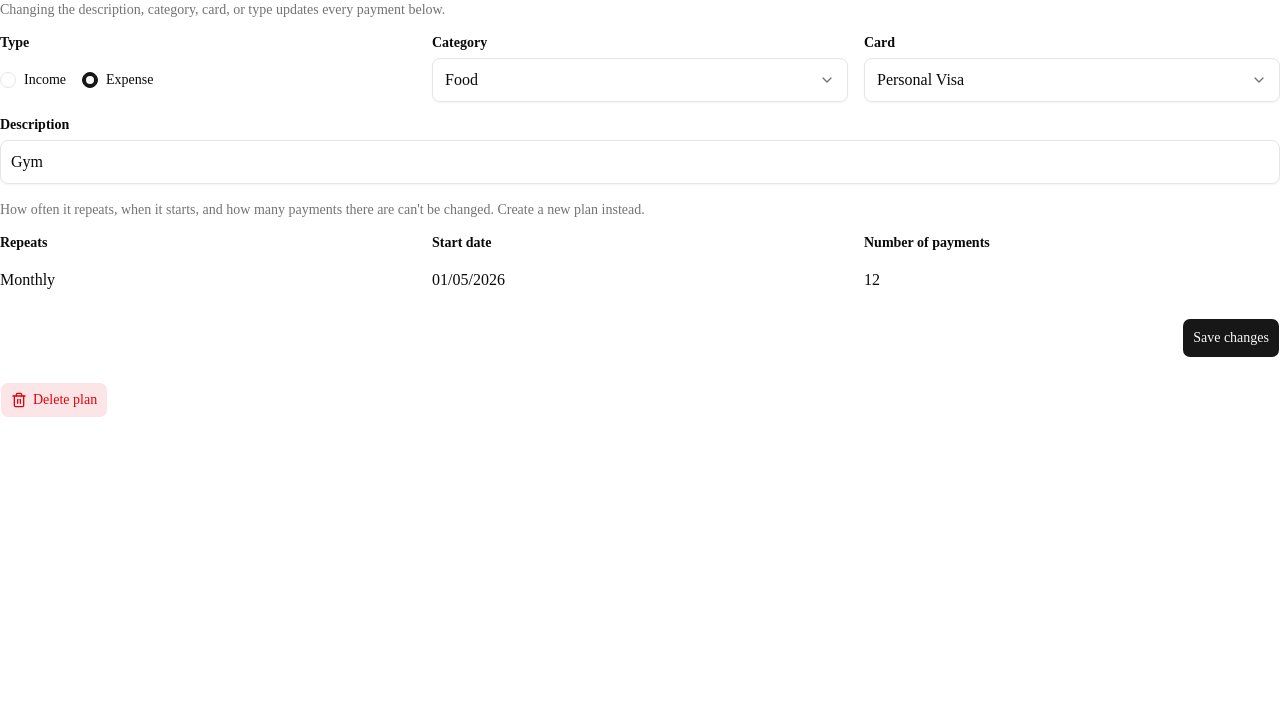
Scenario: InstallmentSeriesForm › opens a confirmation before deleting the plan, interpolating the occurrence count
Click the button "Delete plan": x=54, y=400 top-left (0, 382), bottom-right (108, 418)
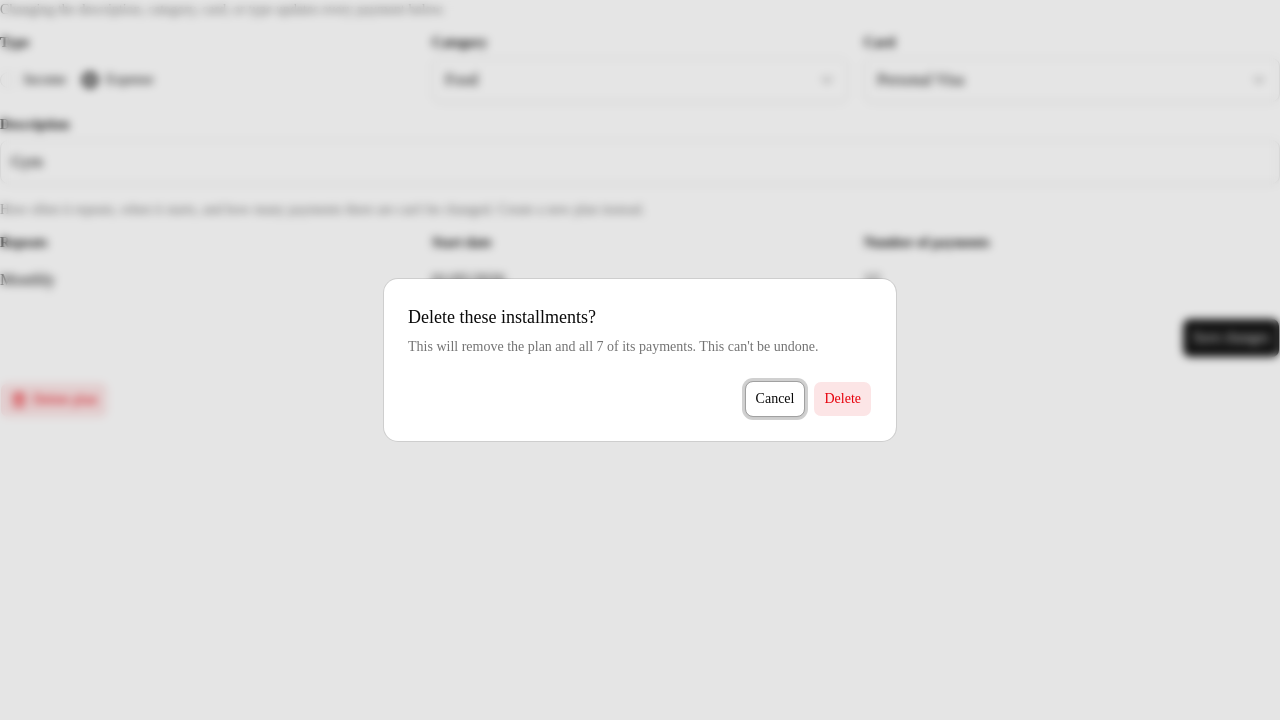
Expected: the text "This will remove the plan and all 7 of its payments. This can't be undone." is shown, top-left (408, 337), bottom-right (818, 357)
